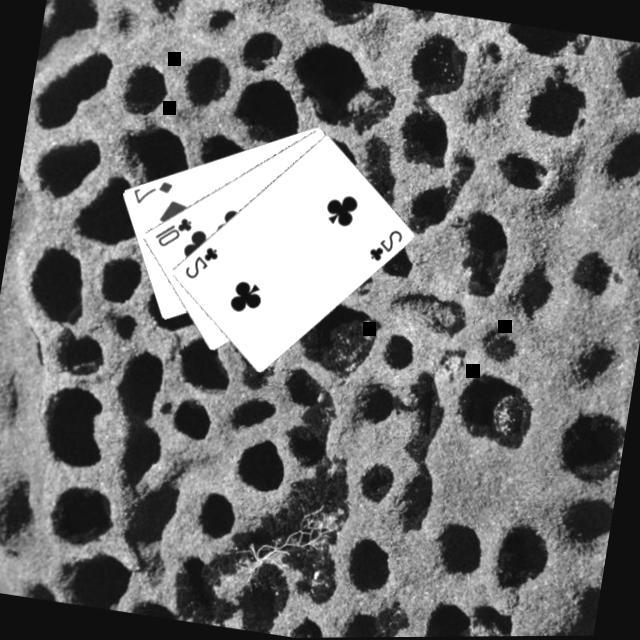10C: (148, 208, 196, 252)
2C: (180, 238, 222, 284), (364, 221, 406, 266)
7D: (128, 171, 176, 209)
